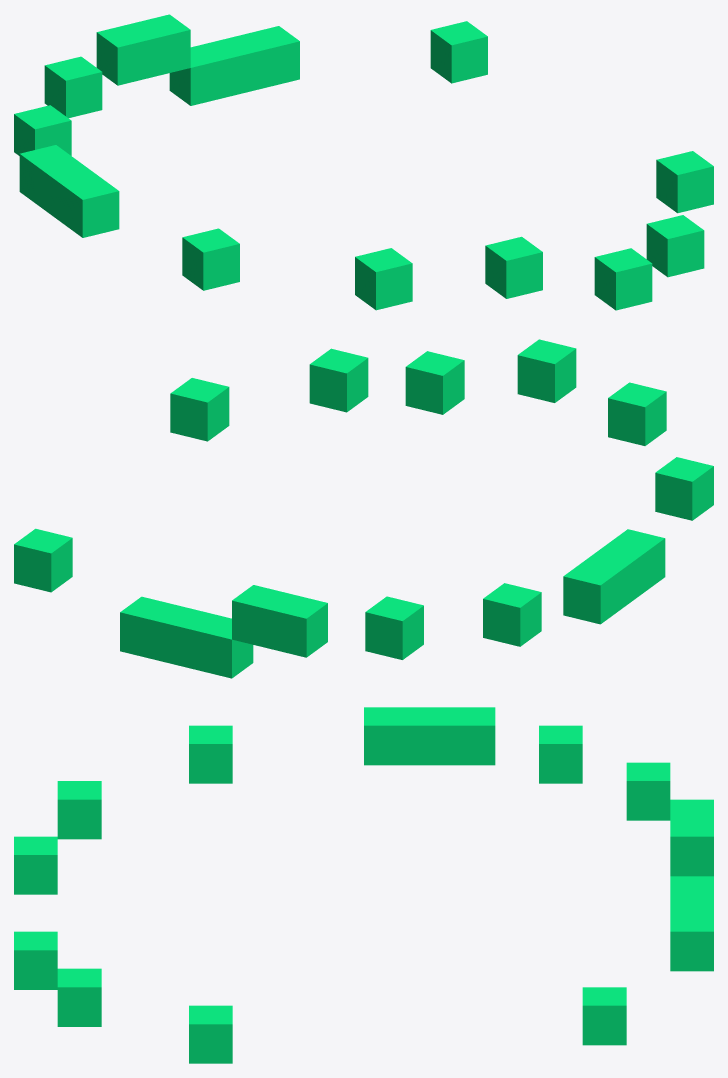
File: luzsaturno-verde2.obj
3 views of the same model, one above another, from view 1: azimuth 30°, elevation 25°; view 2: azimuth 150°, elevation 25°; view 3: azimuth 270°, elevation 25° (orthographic). The views are drawn at different scales.
Bounding box in the file's own units: 1.5 × 0.2 × 1.6.
Materials: 1 (1 with a texture image).
